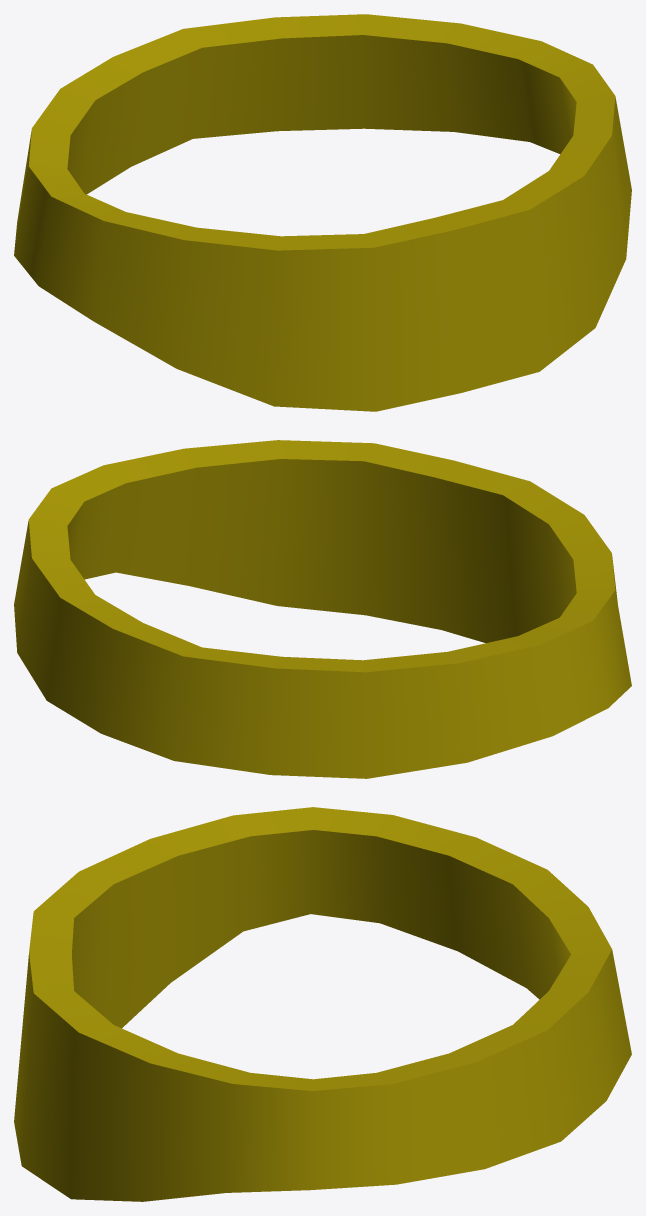
Rendered from armor_belt.fbx.
3 views of the same model, one above another, from view 1: azimuth 30°, elevation 25°; view 2: azimuth 150°, elevation 25°; view 3: azimuth 270°, elevation 25° (orthographic). The views are drawn at different scales.
Visible parts, largest first — view 1: belt1:RoadKillOut; view 2: belt1:RoadKillOut; view 3: belt1:RoadKillOut.
Boxes of the visible parts, x1,y1,x2,y2 form: belt1:RoadKillOut: (14,14,631,411); belt1:RoadKillOut: (14,440,631,778); belt1:RoadKillOut: (14,807,631,1201).
Bounding box in the file's own units: 117 × 32.26 × 102.
